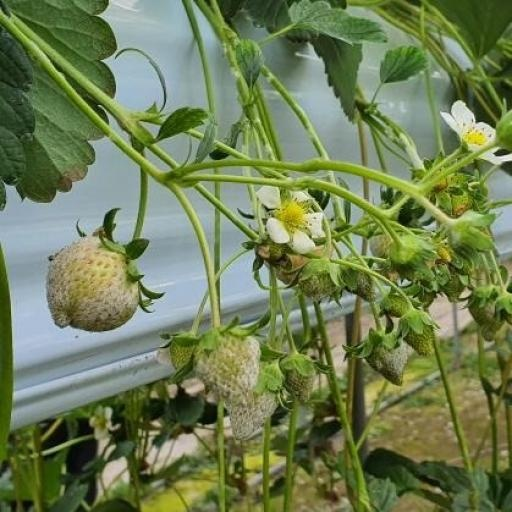Powdery Mildew Fruit: (44, 236, 143, 334), (191, 324, 263, 398), (224, 363, 283, 439), (363, 333, 408, 385)
